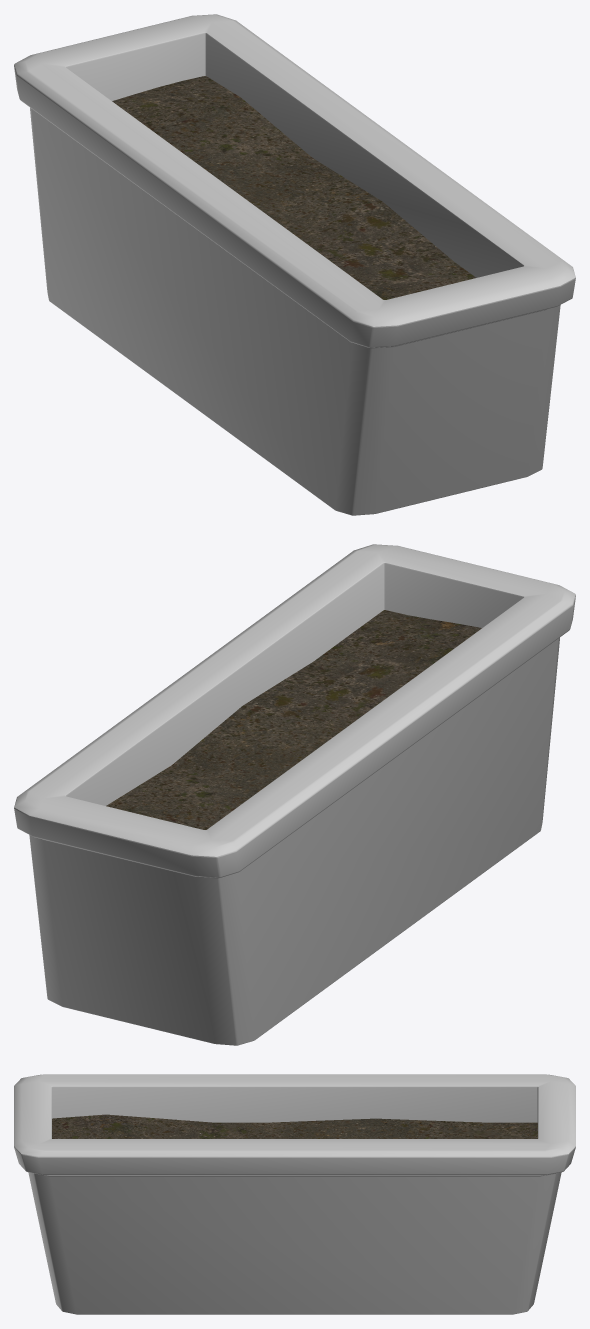
The model's file is flower_box.fbx.
The picture shows the model from 3 angles, top to bottom: view 1: azimuth 30°, elevation 25°; view 2: azimuth 150°, elevation 25°; view 3: azimuth 270°, elevation 25°; orthographic projection. The views are drawn at different scales.
Visible parts, largest first — view 1: Cube.006, Cube.007; view 2: Cube.006, Cube.007; view 3: Cube.006, Cube.007.
Boxes of the visible parts, left/top/right/bottom form: Cube.006: left=14, top=14, right=575, bottom=515; Cube.007: left=112, top=76, right=475, bottom=299; Cube.006: left=14, top=544, right=575, bottom=1045; Cube.007: left=106, top=610, right=481, bottom=829; Cube.006: left=14, top=1074, right=575, bottom=1314; Cube.007: left=52, top=1114, right=537, bottom=1138.
Size of the model in its own units: 214 by 200 by 621.
